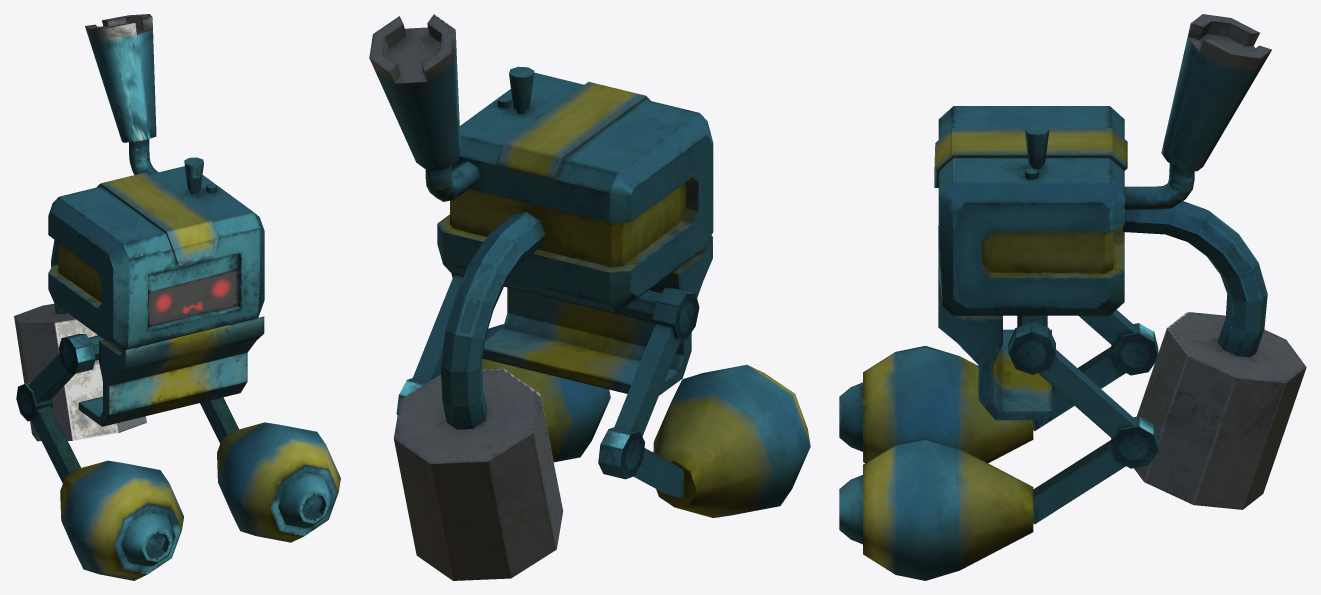
File: enemy_20191029.fbx
3 views of the same model, side by side, from view 1: azimuth 30°, elevation 25°; view 2: azimuth 150°, elevation 25°; view 3: azimuth 270°, elevation 25° (orthographic). The views are drawn at different scales.
Visible parts, largest first — view 1: polySurface10; view 2: polySurface10; view 3: polySurface10.
Part boxes in pixels (box(x1,y1,x2,y2)): polySurface10: box(14, 14, 340, 580); polySurface10: box(369, 14, 810, 580); polySurface10: box(839, 14, 1306, 580).
Bounding box in the file's own units: 15.55 × 24.79 × 19.6.
